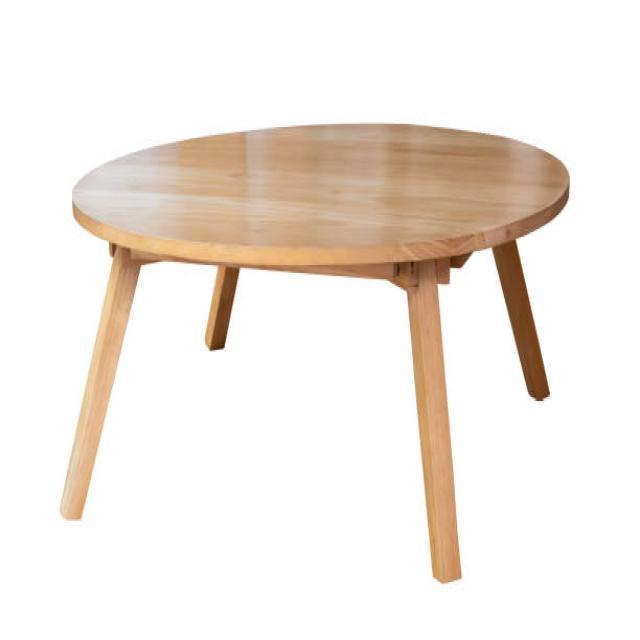table: (58, 121, 570, 584)
